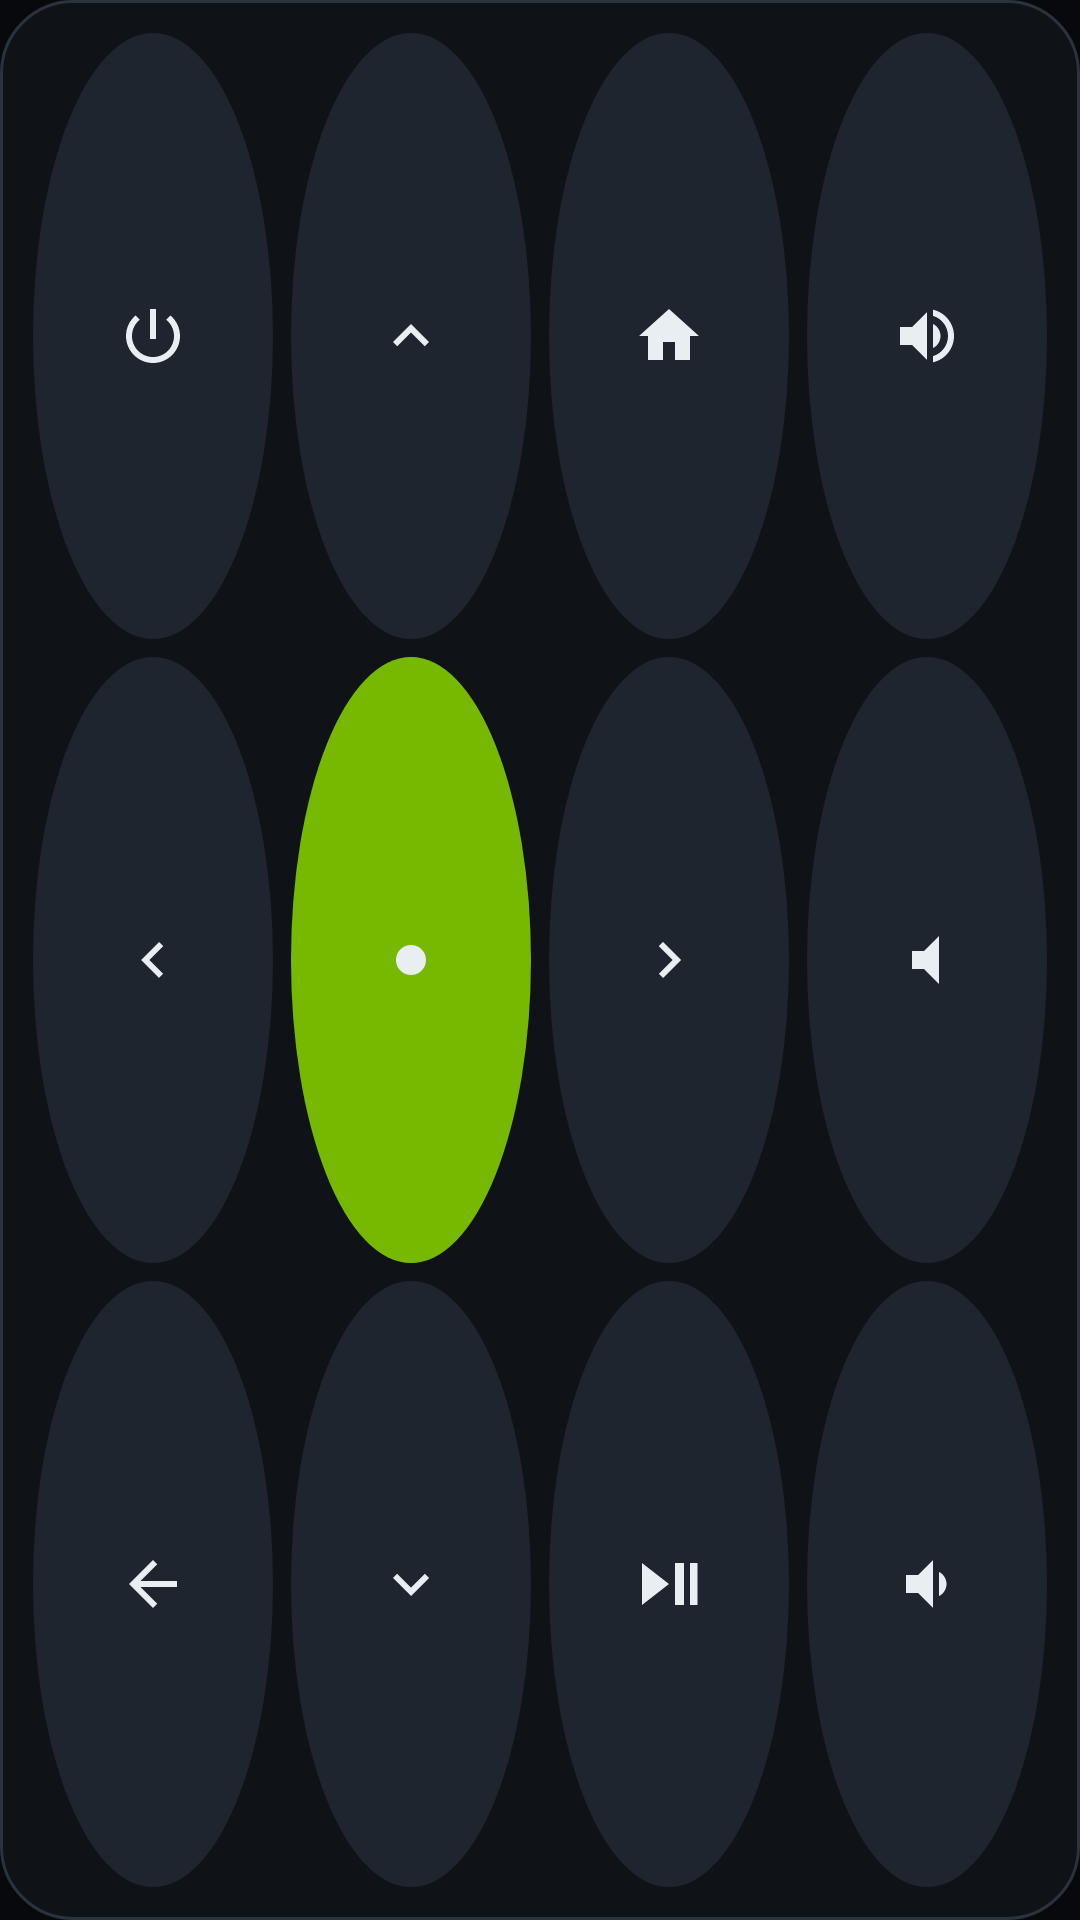

Where icons sit on this 1080*1920 app screen, as (x1, y1, x2, y2):
home: (639, 309, 699, 360)
mute: (912, 936, 939, 984)
playpause: (642, 1563, 698, 1605)
